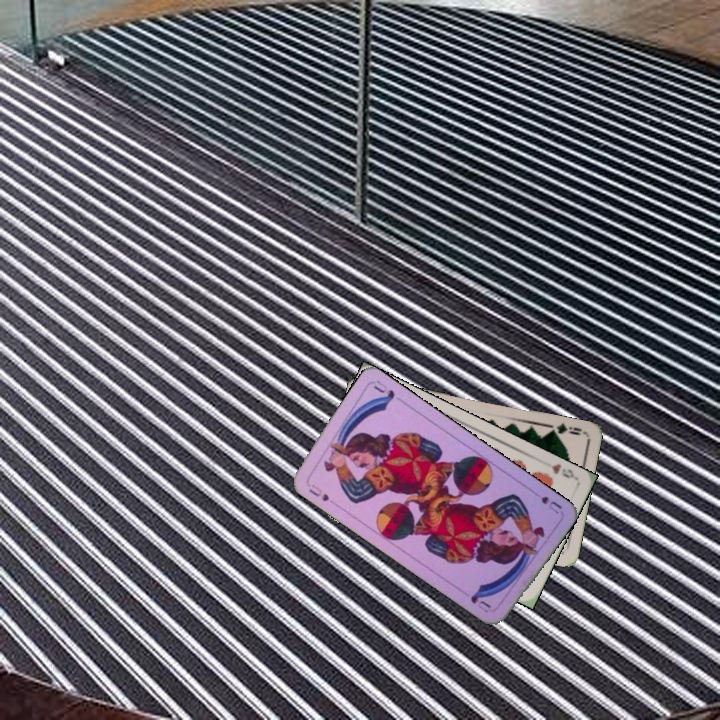G9: (545, 419, 587, 438)
H9: (547, 460, 579, 482)
SU: (537, 492, 565, 517), (305, 480, 332, 504)
